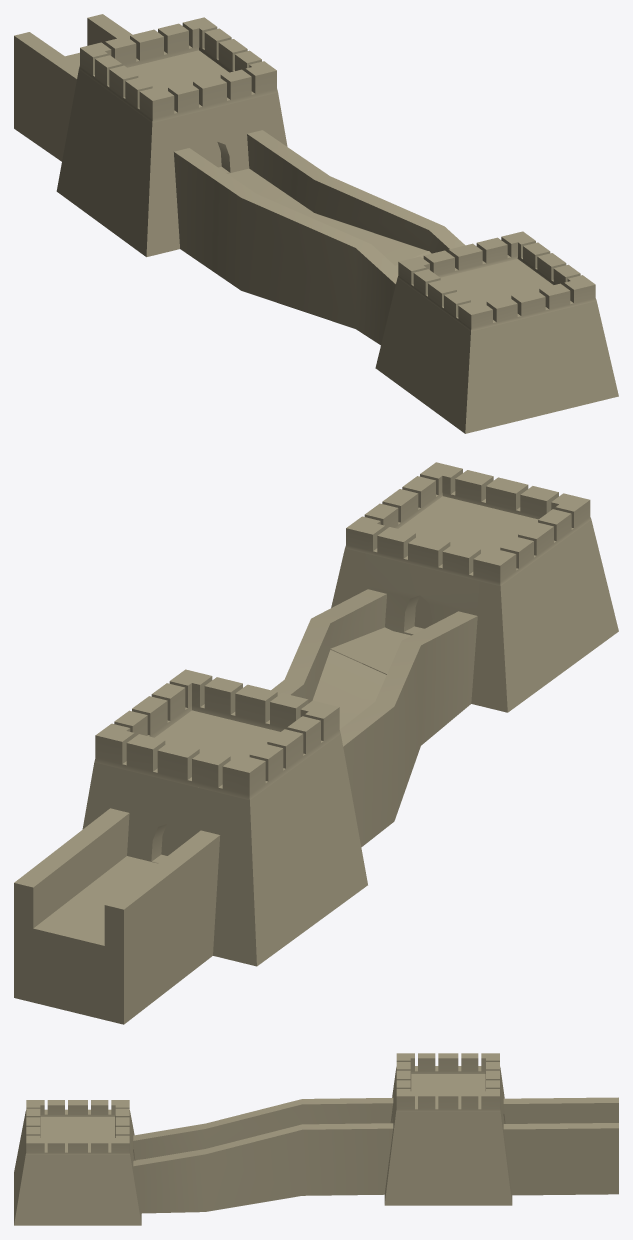
The model's file is GreatWall.fbx.
3 views of the same model, one above another, from view 1: azimuth 30°, elevation 25°; view 2: azimuth 150°, elevation 25°; view 3: azimuth 270°, elevation 25° (orthographic). The views are drawn at different scales.
Visible parts, largest first — view 1: pCircle2; view 2: pCircle2; view 3: pCircle2.
Part boxes in pixels (bbox=[...]): pCircle2: bbox=[14, 14, 618, 433]; pCircle2: bbox=[14, 462, 618, 1024]; pCircle2: bbox=[14, 1053, 618, 1225].
Size of the model in its own units: 5.49 by 3.63 by 19.1.
